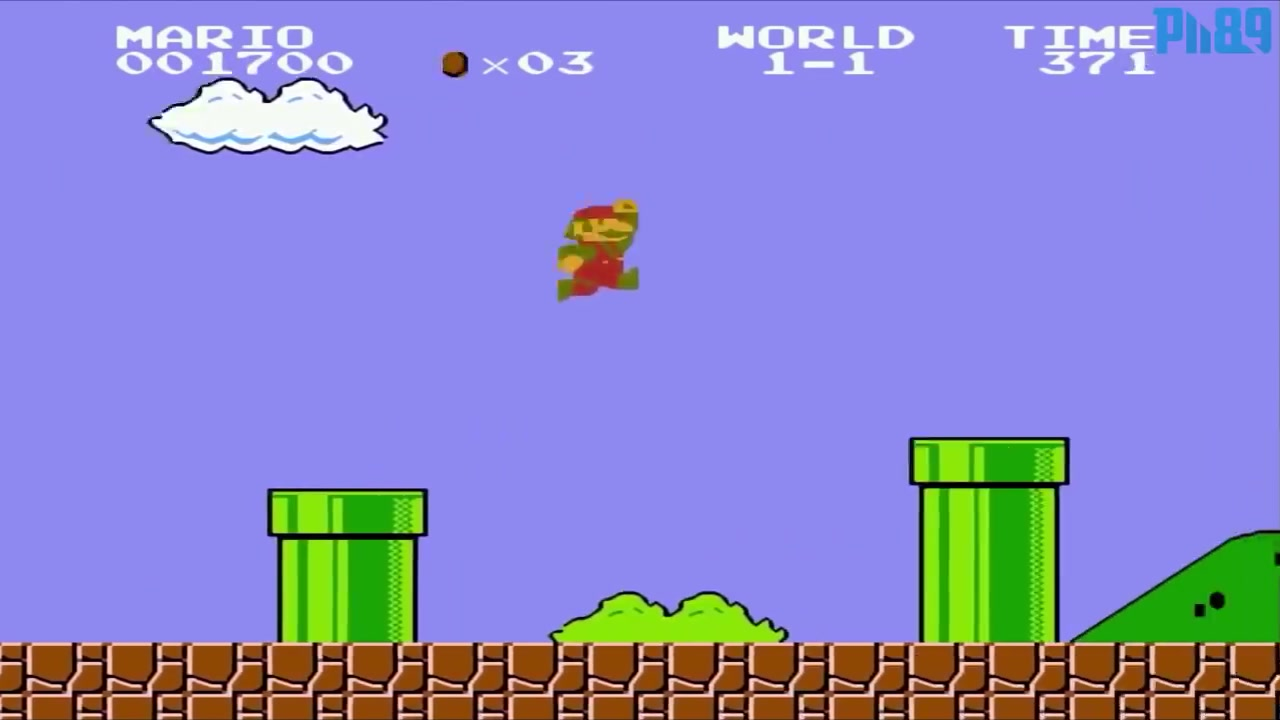mario: (548, 189, 647, 316)
